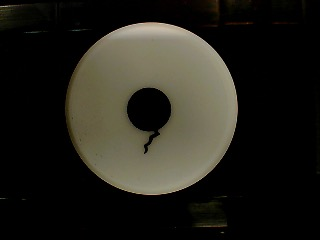CRACK: (64, 22, 239, 196)
